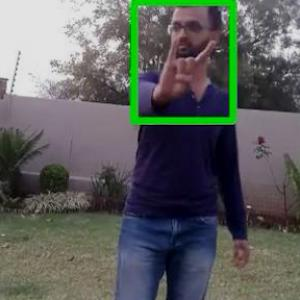takeoff-hand: (153, 33, 222, 103)
